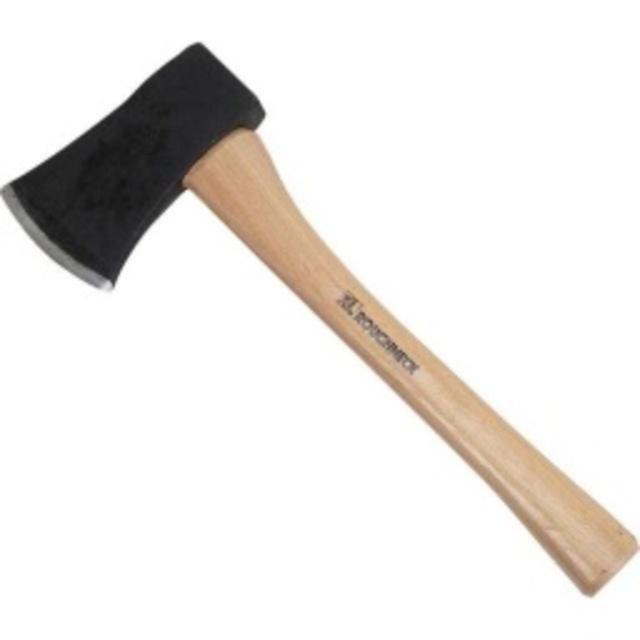ax: (3, 34, 639, 612)
